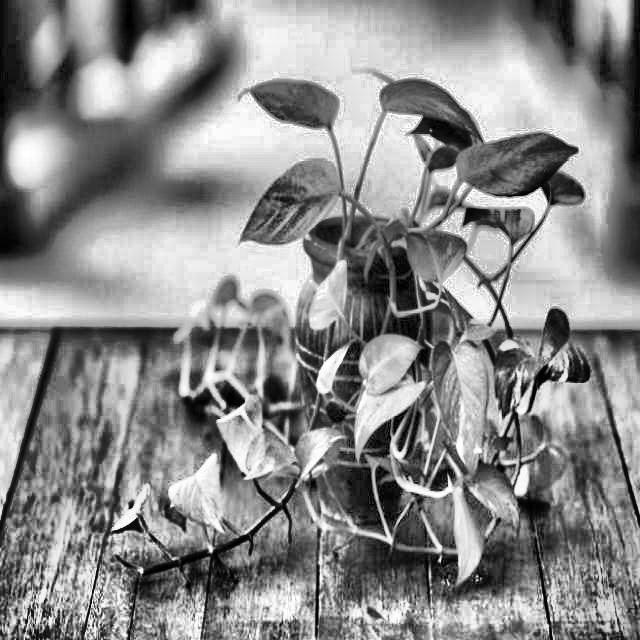plants: (148, 6, 533, 540)
